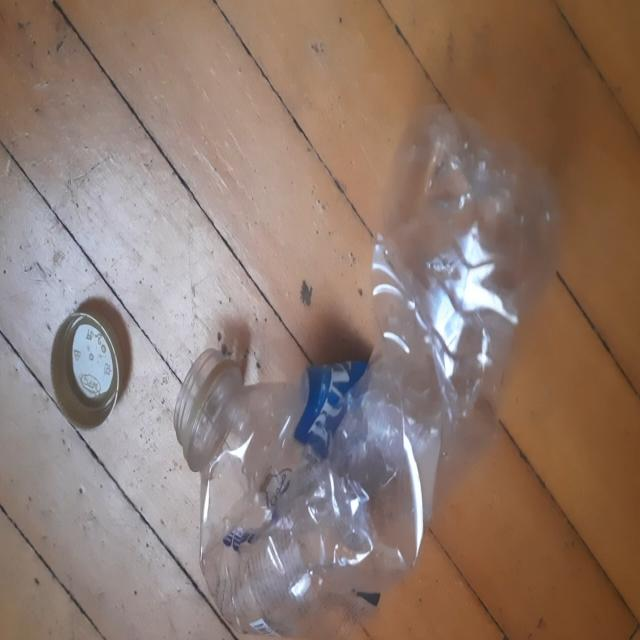Plastic: (177, 103, 561, 637)
